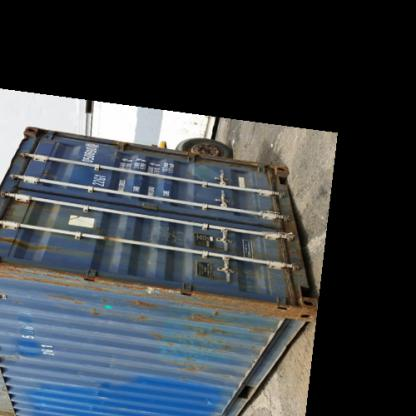Damage: (0, 233, 86, 253), (0, 316, 32, 368), (127, 279, 178, 311), (48, 294, 116, 316), (238, 251, 272, 291), (161, 356, 215, 376), (161, 217, 192, 249), (84, 378, 110, 412), (187, 309, 231, 325), (196, 392, 225, 410), (242, 324, 274, 340), (145, 326, 171, 344), (211, 338, 237, 354), (27, 398, 47, 414)
